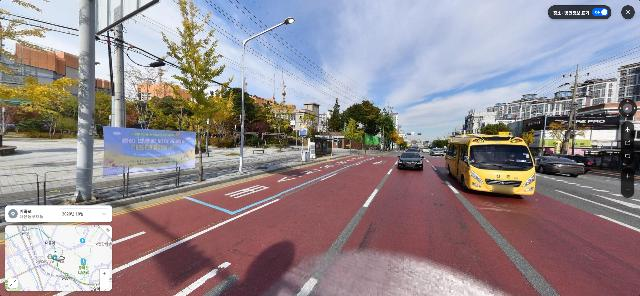ginkgo: (1, 72, 77, 139)
other: (160, 5, 236, 183)
